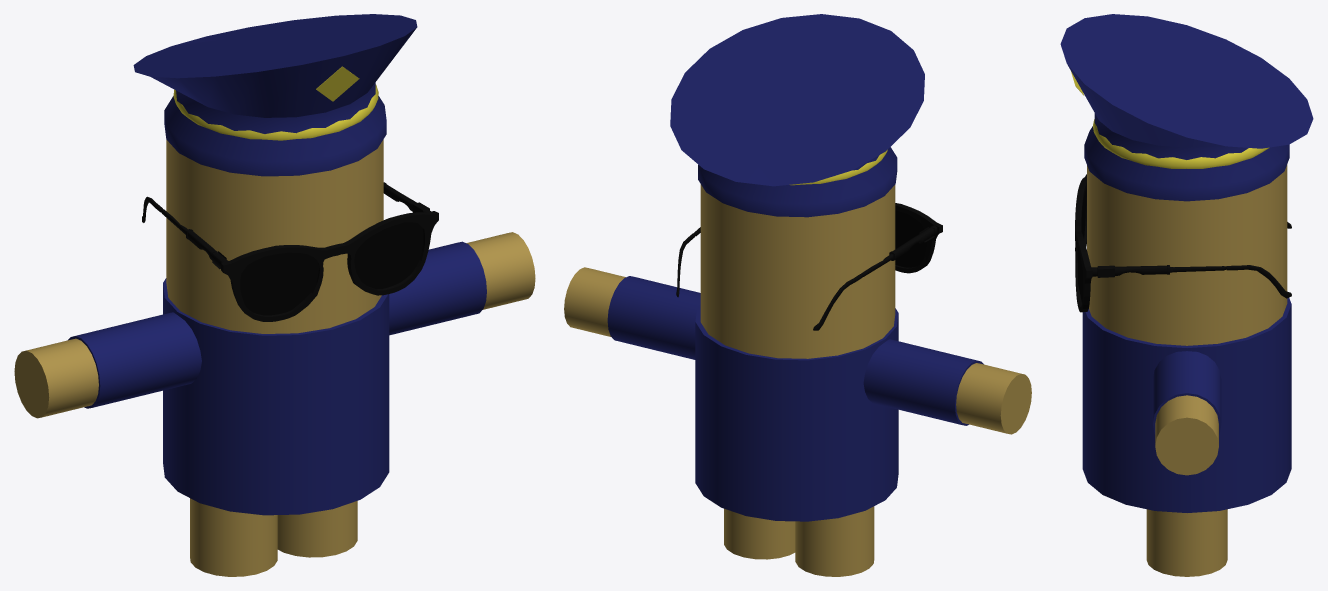
Rendered from police.fbx.
The picture shows the model from 3 angles, left to right: view 1: azimuth 30°, elevation 25°; view 2: azimuth 150°, elevation 25°; view 3: azimuth 270°, elevation 25°; orthographic projection. The views are drawn at different scales.
Parts seen in each view (by area): view 1: police2; view 2: police2; view 3: police2.
Boxes of the visible parts, left/top/right/bottom form: police2: left=14, top=14, right=535, bottom=576; police2: left=564, top=14, right=1031, bottom=576; police2: left=1060, top=14, right=1313, bottom=576.
Bounding box in the file's own units: 5.15 × 5.49 × 2.52.
